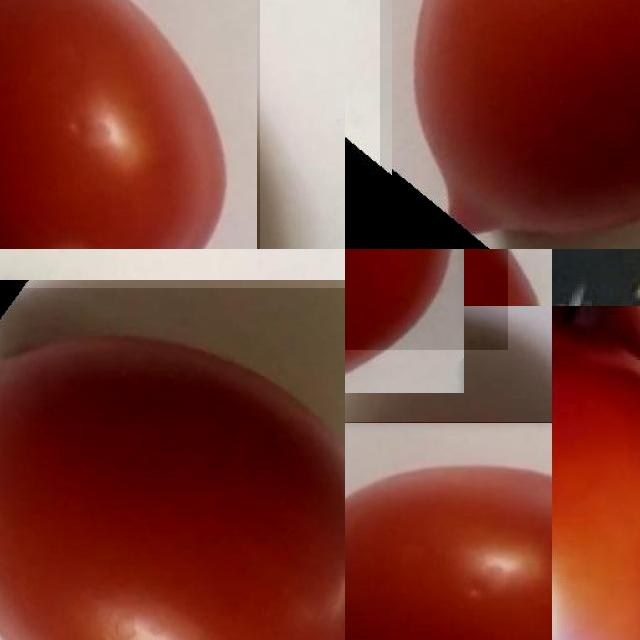0: (0, 288, 345, 640)
Fresh Tomato: (0, 0, 260, 249), (380, 0, 640, 249), (345, 422, 552, 640), (552, 306, 640, 640), (345, 249, 508, 349)
